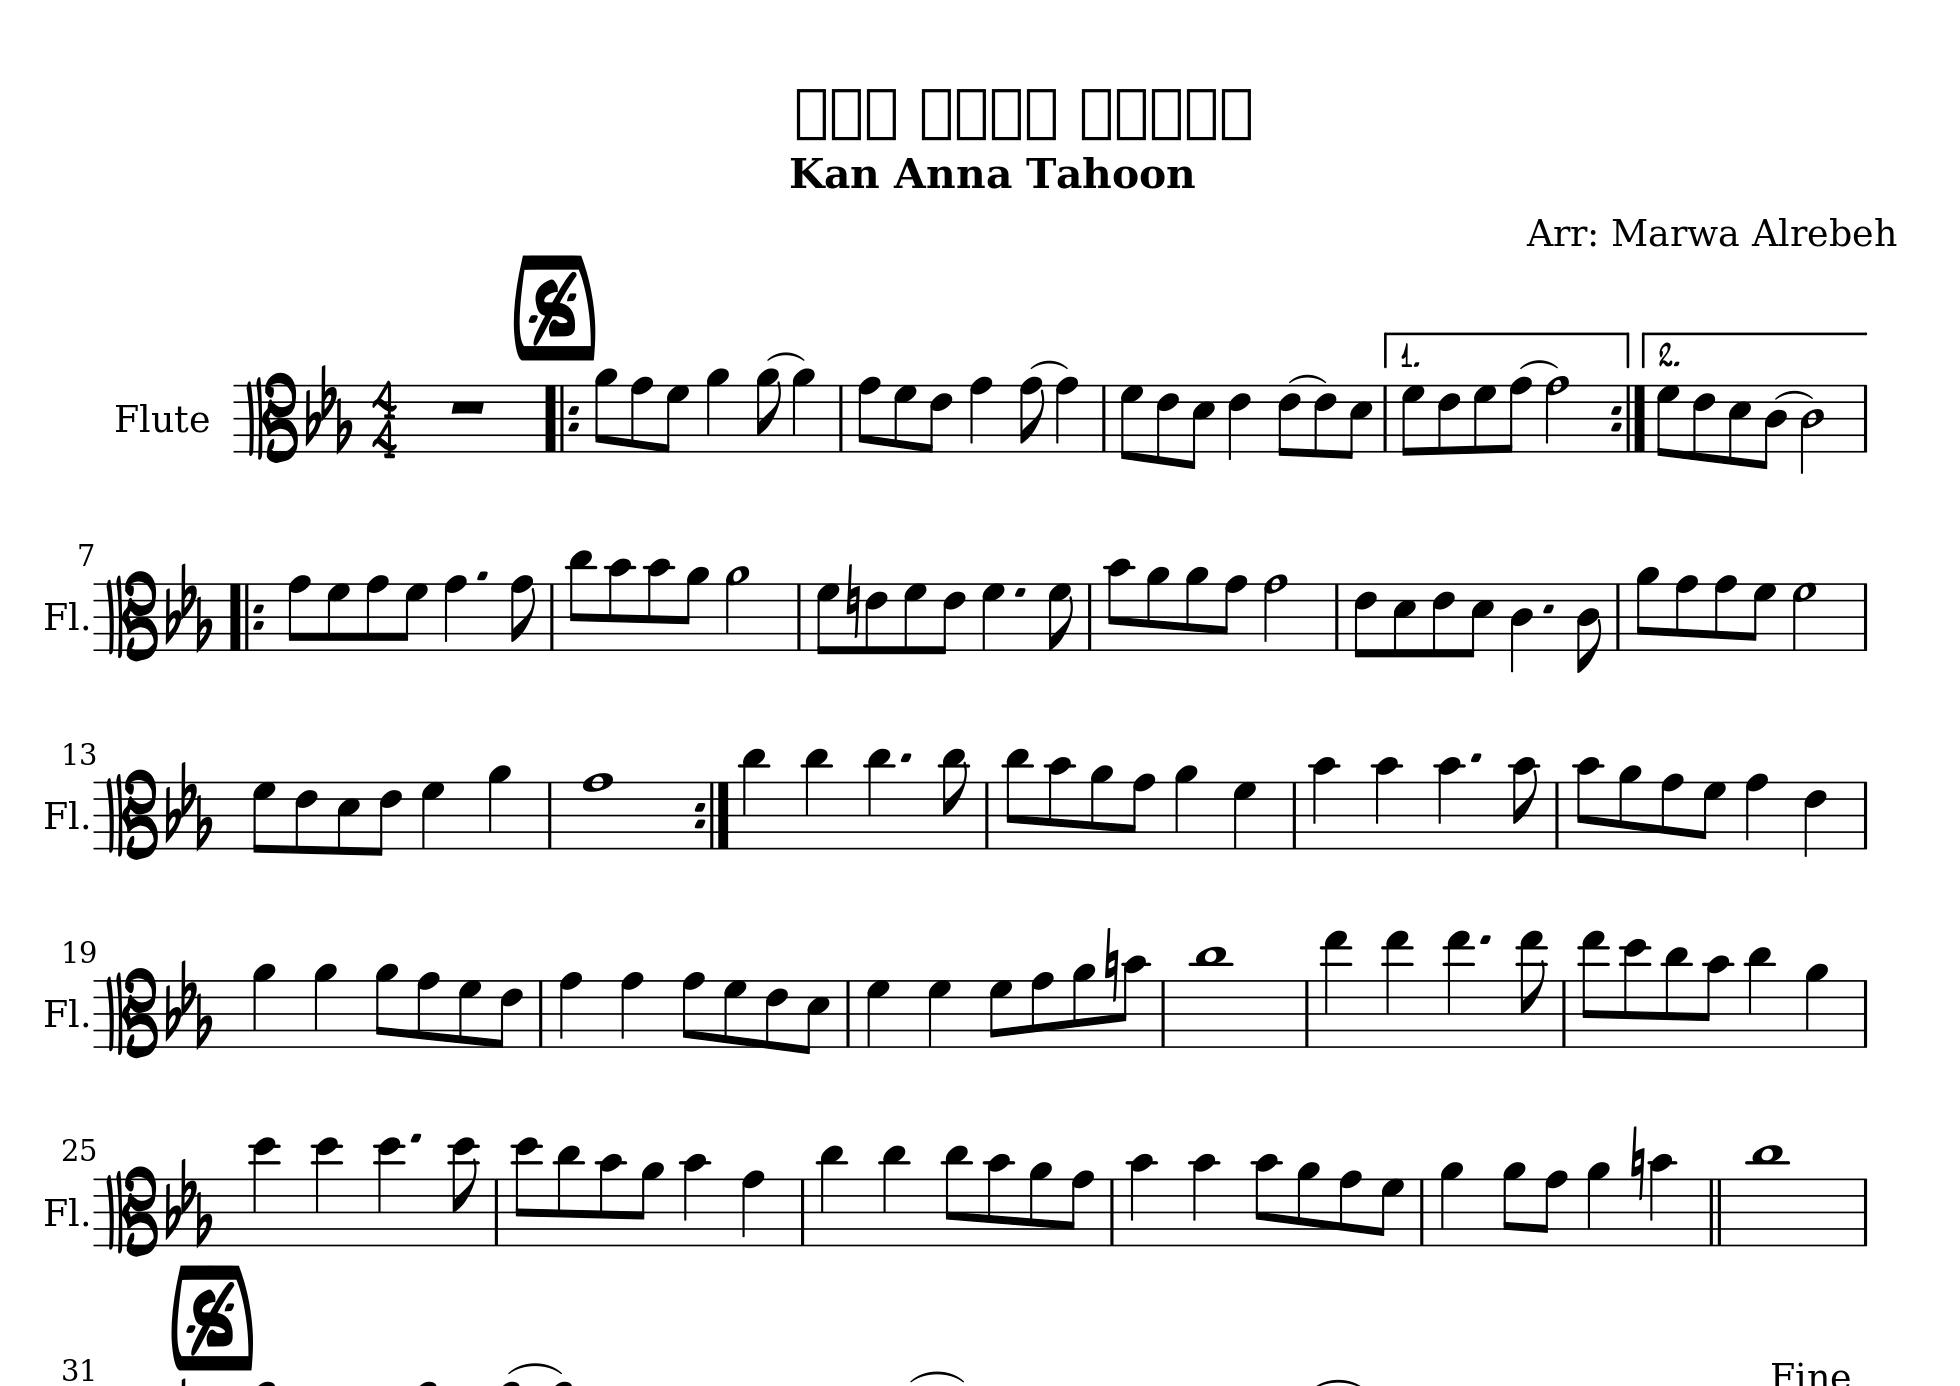1: (61, 936, 76, 966), (61, 739, 76, 766), (81, 1354, 94, 1383)
1_11: (1749, 1143, 1788, 1249), (1191, 945, 1230, 1050)
1_8: (580, 769, 615, 850)
2: (60, 1135, 78, 1162)
2_4: (1800, 382, 1827, 474)
2_7: (1791, 580, 1816, 651)
2_8: (1263, 571, 1290, 652), (1545, 373, 1570, 454)
2_9: (723, 564, 750, 652)
3: (60, 1354, 78, 1383), (79, 739, 96, 766)
4: (370, 379, 400, 420), (370, 418, 400, 457)
4_10: (1371, 754, 1402, 852), (1434, 754, 1465, 852), (679, 1152, 711, 1248), (1126, 1150, 1156, 1248), (1309, 754, 1339, 850), (1189, 1152, 1219, 1248), (1647, 1153, 1675, 1248)
4_11: (801, 747, 832, 850), (879, 1143, 910, 1246), (816, 1144, 847, 1246), (739, 747, 769, 850), (864, 747, 894, 850), (1746, 945, 1774, 1048)
4_12: (373, 1135, 406, 1249), (249, 1135, 280, 1249), (312, 1135, 343, 1249)
4_13: (1443, 928, 1474, 1051), (1321, 928, 1351, 1051), (1383, 928, 1413, 1051)
4_4: (1509, 580, 1534, 673)
4_6: (1227, 382, 1254, 460), (1803, 780, 1827, 859)
4_7: (420, 780, 445, 850), (1231, 780, 1257, 850), (864, 979, 889, 1048), (927, 979, 952, 1048), (981, 582, 1005, 652)
4_8: (556, 969, 583, 1050), (739, 1168, 766, 1249), (618, 970, 645, 1050), (967, 375, 993, 454), (1054, 375, 1080, 454), (442, 573, 468, 652), (1744, 771, 1770, 850)
4_9: (703, 366, 730, 454), (1173, 763, 1200, 850), (250, 961, 277, 1048), (1803, 961, 1830, 1048), (1438, 1159, 1465, 1246), (790, 366, 816, 454), (312, 961, 337, 1048), (1585, 1159, 1611, 1246), (487, 763, 511, 850)
5: (79, 1135, 96, 1162)
7: (78, 540, 94, 567)
8_10: (1699, 952, 1732, 1048), (1509, 756, 1542, 850), (1116, 954, 1149, 1048), (1251, 1150, 1281, 1246), (606, 556, 634, 652), (645, 556, 673, 652), (1105, 556, 1134, 652), (1573, 754, 1602, 850), (597, 1152, 625, 1246), (1047, 754, 1074, 850), (985, 1150, 1012, 1246)
8_11: (553, 1143, 585, 1248), (565, 547, 595, 652), (940, 745, 970, 850), (1003, 745, 1033, 850), (1662, 943, 1692, 1048), (942, 1141, 972, 1246)
8_12: (448, 1135, 481, 1248), (511, 1135, 543, 1248), (1621, 936, 1650, 1048)
8_13: (1515, 928, 1549, 1048), (1578, 930, 1608, 1048)
8_4: (1575, 580, 1603, 675), (1758, 382, 1786, 471)
8_5: (1185, 382, 1216, 469), (799, 978, 831, 1054), (1344, 382, 1374, 460), (1464, 580, 1494, 658), (1726, 382, 1752, 466), (1392, 580, 1417, 658), (336, 778, 361, 855)
8_6: (372, 778, 403, 856), (936, 580, 966, 655), (493, 978, 525, 1048), (1155, 382, 1180, 466), (292, 778, 319, 855), (924, 382, 952, 454), (1353, 580, 1378, 660), (1431, 580, 1456, 658), (1312, 382, 1338, 459), (1276, 382, 1302, 457), (1692, 382, 1716, 462), (763, 978, 789, 1051), (864, 580, 888, 655), (1437, 382, 1461, 454)
8_7: (1374, 1174, 1405, 1246), (660, 382, 688, 454), (1698, 778, 1726, 850), (1119, 382, 1144, 462), (399, 580, 427, 651), (1747, 580, 1776, 651), (250, 778, 276, 855), (1047, 580, 1074, 652), (1401, 382, 1426, 457), (901, 580, 927, 654), (1656, 382, 1680, 459), (325, 580, 351, 652), (721, 978, 747, 1048), (988, 978, 1014, 1048), (814, 582, 838, 655), (892, 382, 916, 454), (1473, 382, 1497, 454), (457, 978, 481, 1048)
8_8: (1501, 375, 1533, 454), (1125, 771, 1156, 850), (1537, 1168, 1569, 1248), (1218, 573, 1248, 652), (1065, 1168, 1095, 1248), (508, 573, 537, 652), (1018, 376, 1047, 454), (679, 970, 706, 1048), (286, 571, 312, 652), (1674, 571, 1699, 652), (628, 375, 654, 454), (364, 573, 390, 652), (1713, 573, 1738, 652), (1659, 771, 1684, 850), (415, 970, 441, 1048), (1029, 970, 1054, 1048), (1338, 1168, 1363, 1246), (856, 375, 880, 454)
8_9: (634, 1161, 666, 1246), (679, 565, 709, 652), (1500, 1159, 1527, 1248), (754, 367, 781, 454), (592, 366, 618, 454), (1146, 565, 1171, 652), (1183, 565, 1209, 652), (1635, 565, 1660, 652), (1089, 763, 1114, 850), (1617, 763, 1642, 850), (373, 961, 399, 1048), (1027, 1159, 1053, 1246), (1072, 961, 1096, 1048), (1296, 1159, 1320, 1246)
9: (78, 934, 97, 966)
Cclef: (103, 1162, 159, 1258), (103, 964, 157, 1059), (244, 370, 298, 463), (103, 766, 157, 859), (105, 568, 157, 661)
Double_barline: (1704, 1177, 1728, 1245)
E_F: (303, 363, 354, 454), (163, 1156, 214, 1246), (163, 561, 213, 651), (163, 760, 213, 850), (163, 958, 213, 1048)
Fl: (40, 1192, 81, 1231), (40, 597, 81, 634), (40, 796, 81, 832), (40, 994, 81, 1030), (112, 399, 151, 435)
LeftRepeatSign: (226, 580, 264, 651), (541, 382, 577, 453)
Natural: (1102, 925, 1120, 1003), (1629, 1123, 1647, 1201), (844, 561, 861, 637)
Prima_volta: (1377, 327, 1633, 370)
Rests1: (445, 396, 489, 415)
RightRepeatSign: (693, 781, 733, 847), (1611, 384, 1647, 451)
Seconda_volta: (1639, 330, 1879, 370)
Segno: (184, 1279, 240, 1351), (526, 270, 580, 342)
Single_barline: (540, 780, 559, 847), (531, 979, 550, 1047), (1855, 1177, 1875, 1243), (838, 979, 856, 1047), (1413, 1177, 1431, 1245), (790, 583, 808, 649), (1329, 583, 1347, 649), (1287, 781, 1305, 847), (1857, 781, 1875, 847), (1857, 979, 1875, 1045), (1299, 979, 1317, 1045), (793, 1177, 811, 1243), (1096, 384, 1113, 451), (1857, 582, 1873, 649), (1104, 1177, 1120, 1245), (1155, 979, 1171, 1045), (1378, 384, 1393, 451), (1857, 384, 1872, 451), (1611, 582, 1626, 649), (834, 384, 849, 450), (544, 583, 559, 649), (979, 781, 994, 847), (1557, 979, 1572, 1045), (487, 1177, 502, 1243), (1551, 781, 1564, 847), (1084, 583, 1098, 648)
Slur: (505, 1360, 565, 1375), (907, 1369, 966, 1383), (1290, 370, 1327, 385), (1776, 385, 1813, 400), (1518, 357, 1560, 369), (1029, 358, 1071, 370), (766, 351, 805, 363), (1317, 1377, 1362, 1386)
TimeSig: (369, 379, 399, 459)
dot: (1467, 750, 1485, 766), (406, 1129, 424, 1146), (895, 750, 913, 765), (472, 568, 489, 583), (1011, 583, 1027, 598), (1477, 931, 1494, 946)
